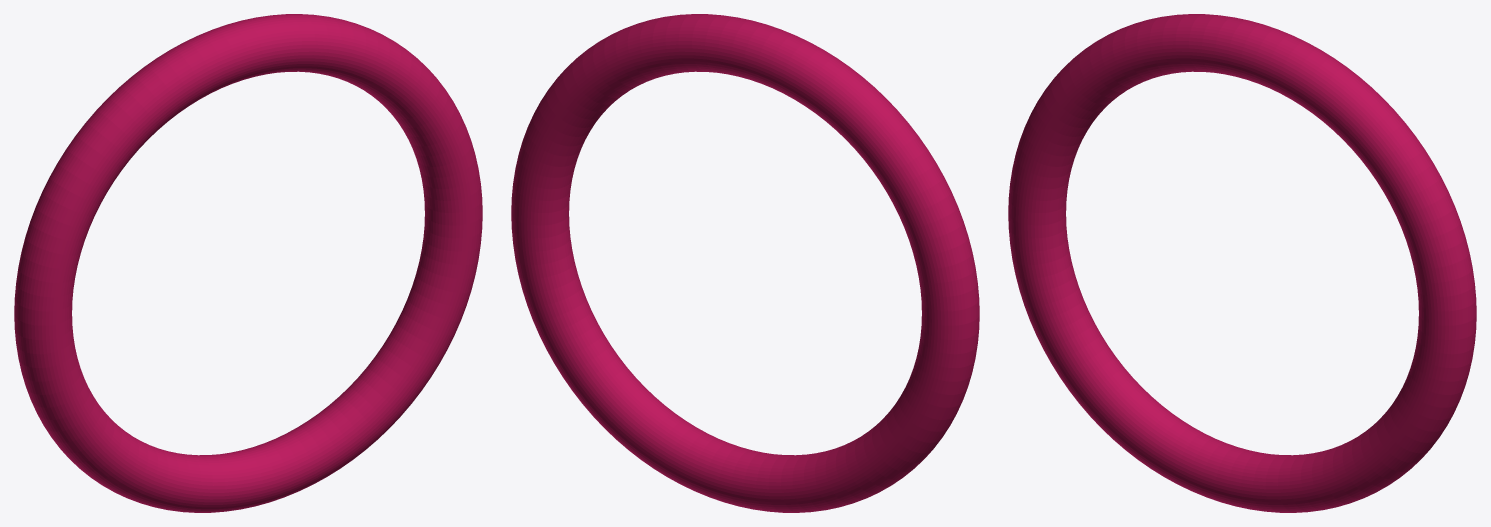
The picture shows the model from 3 angles, left to right: view 1: azimuth 30°, elevation 25°; view 2: azimuth 150°, elevation 25°; view 3: azimuth 330°, elevation 25°; orthographic projection.
Parts seen in each view (by area): view 1: world; view 2: world; view 3: world.
Boxes of the visible parts, box(x1,y1,x2,y2) form: world: box(14, 14, 482, 512); world: box(511, 14, 979, 512); world: box(1008, 14, 1476, 512).
Size of the model in its own units: 30.67 by 30.67 by 3.33.
